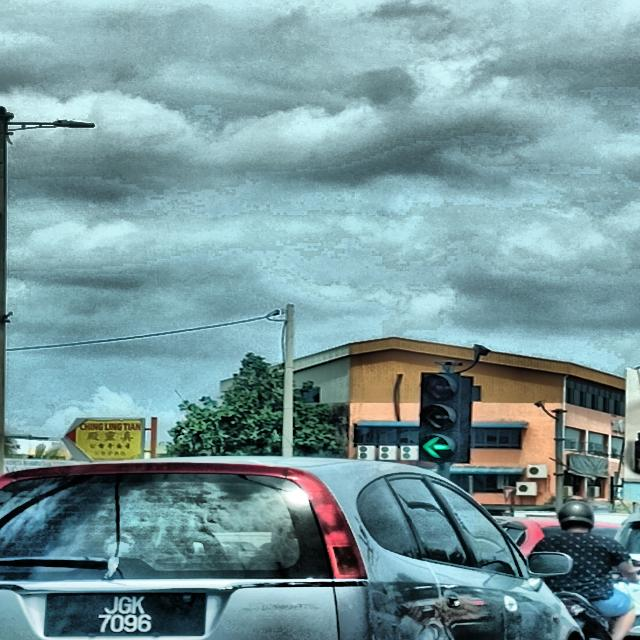green: (418, 372, 462, 461)
